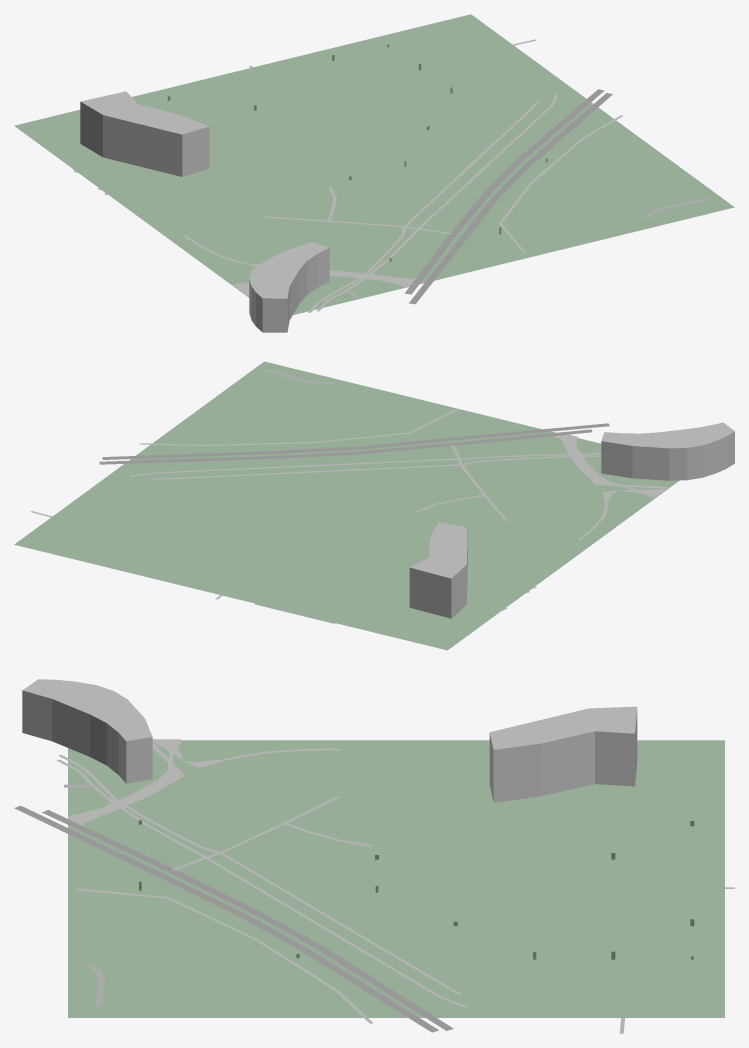
3 renders of one model, top to bottom at view 1: azimuth 30°, elevation 25°; view 2: azimuth 150°, elevation 25°; view 3: azimuth 270°, elevation 25°, orthographic. The views are drawn at different scales.
Size of the model in its own units: 556 by 46.3 by 549.
